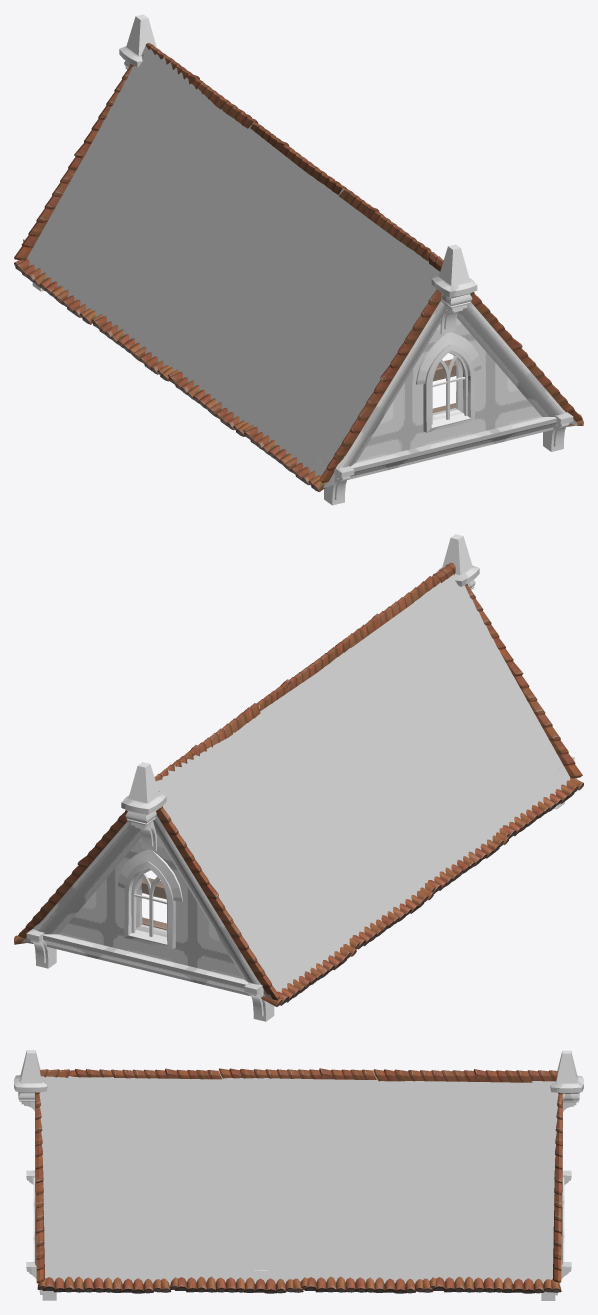
Rendered from SM_BlacksmithS_Roof_B.fbx.
3 renders of one model, top to bottom at view 1: azimuth 30°, elevation 25°; view 2: azimuth 150°, elevation 25°; view 3: azimuth 270°, elevation 25°, orthographic. The views are drawn at different scales.
Visible parts, largest first — view 1: SM_BlacksmithS_Roof_B_LOD0; view 2: SM_BlacksmithS_Roof_B_LOD0; view 3: SM_BlacksmithS_Roof_B_LOD0.
Part boxes in pixels (x1,y1,x2,y2): SM_BlacksmithS_Roof_B_LOD0: [14, 14, 583, 505]; SM_BlacksmithS_Roof_B_LOD0: [14, 534, 583, 1021]; SM_BlacksmithS_Roof_B_LOD0: [14, 1050, 583, 1300].
Size of what is drawn, in the model's own units: 8.66 by 7.17 by 18.45.
